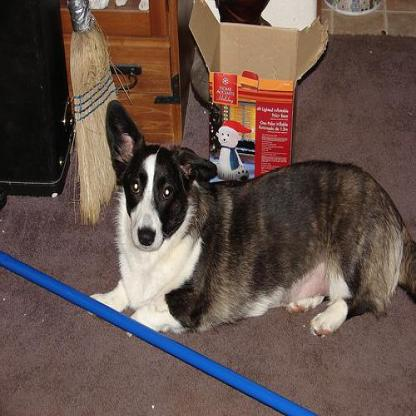Cardigan: (85, 97, 413, 337)
